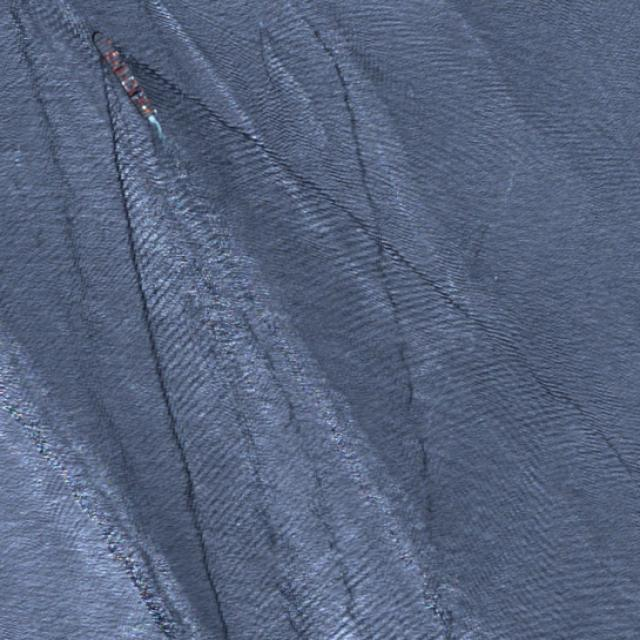Container Ship: (88, 29, 159, 120)
